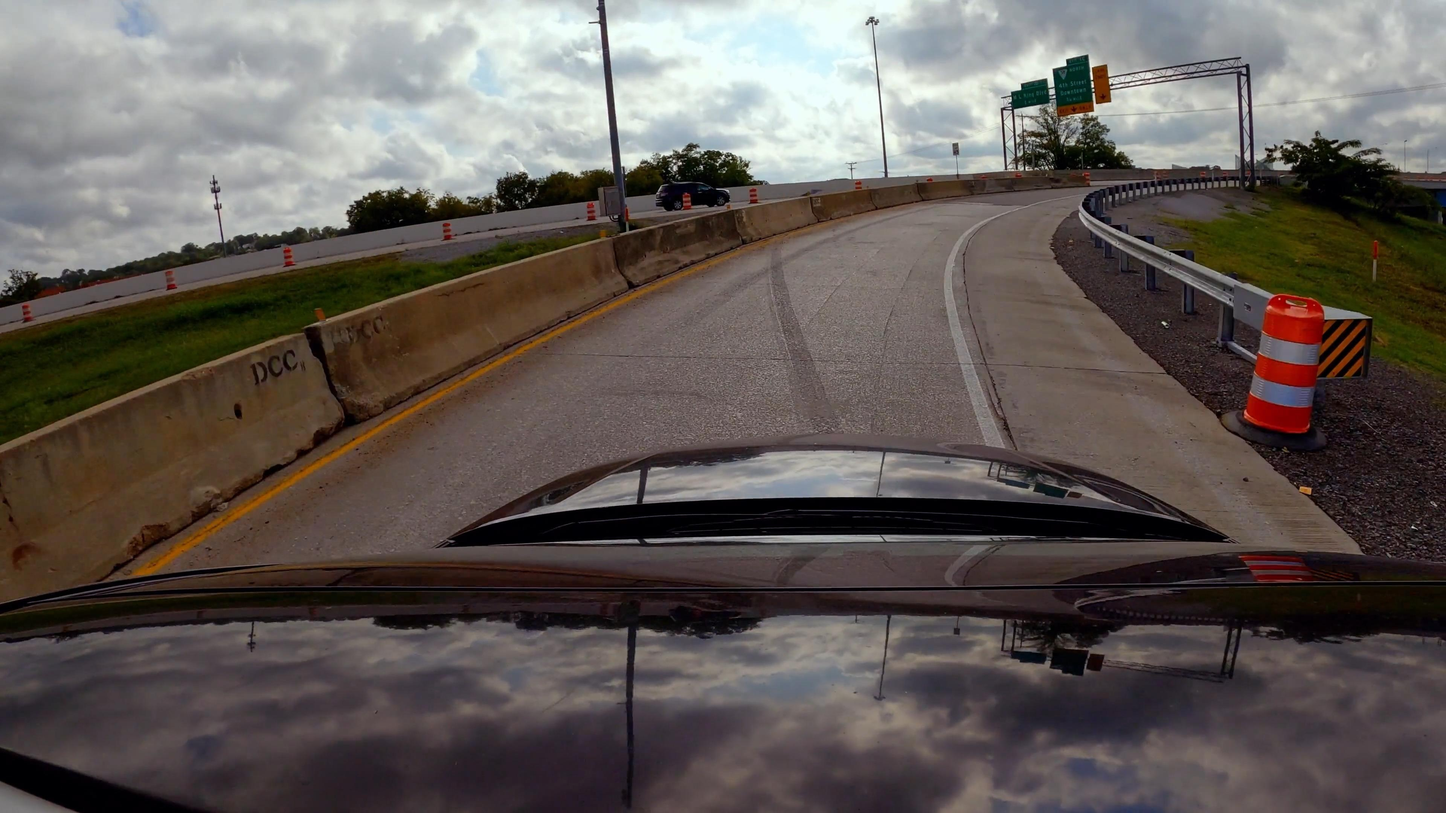dry: (115, 186, 1087, 581)
